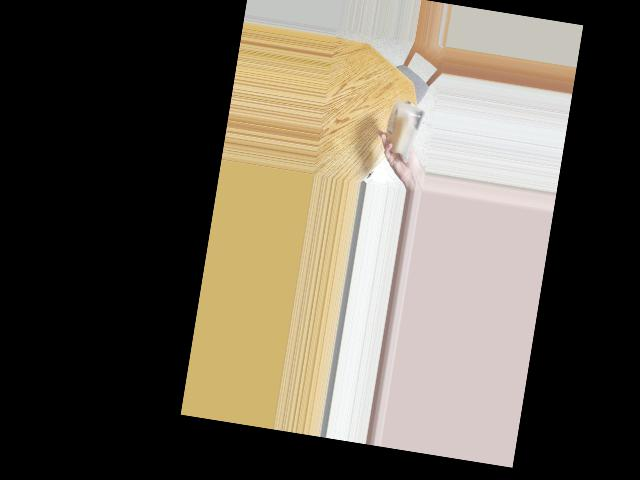cheese: (384, 102, 421, 153)
